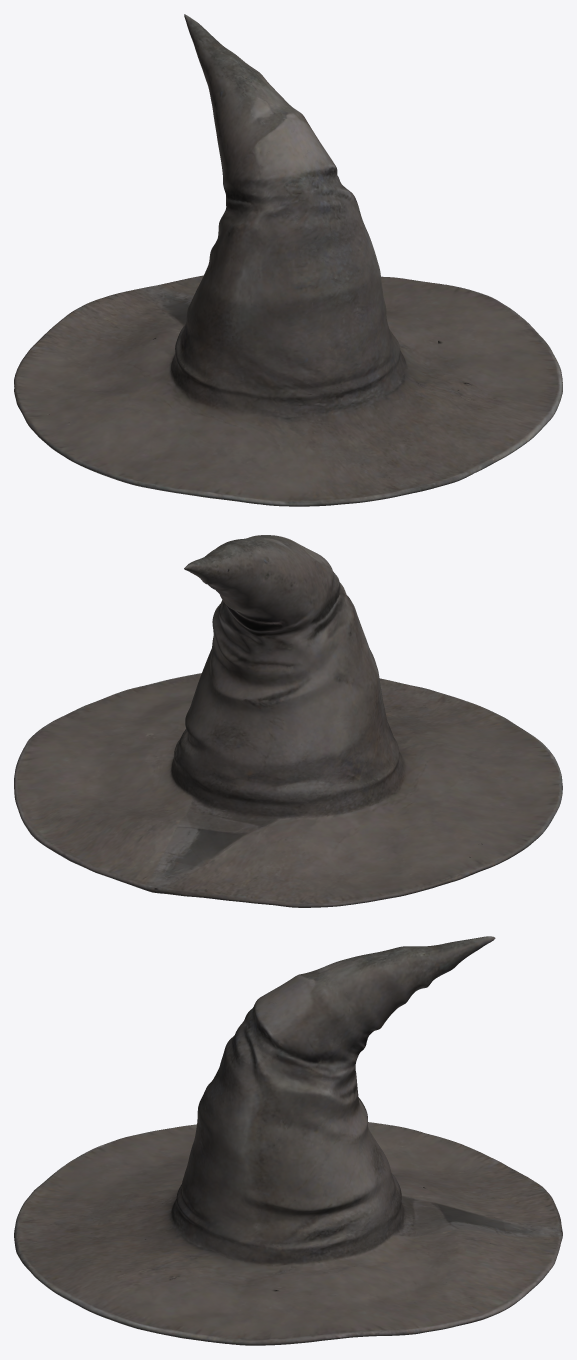
Rendered from Witch_s_Hat_0613152650_texture.fbx.
The picture shows the model from 3 angles, top to bottom: view 1: azimuth 30°, elevation 25°; view 2: azimuth 150°, elevation 25°; view 3: azimuth 270°, elevation 25°; orthographic projection.
Parts seen in each view (by area): view 1: Mesh1_Mesh1.043; view 2: Mesh1_Mesh1.043; view 3: Mesh1_Mesh1.043.
Part boxes in pixels (x1,y1,x2,y2): Mesh1_Mesh1.043: [14, 14, 562, 506]; Mesh1_Mesh1.043: [14, 535, 562, 907]; Mesh1_Mesh1.043: [14, 936, 562, 1345].
Size of the model in its own units: 200 by 123 by 200.
1 material, 1 textured.
